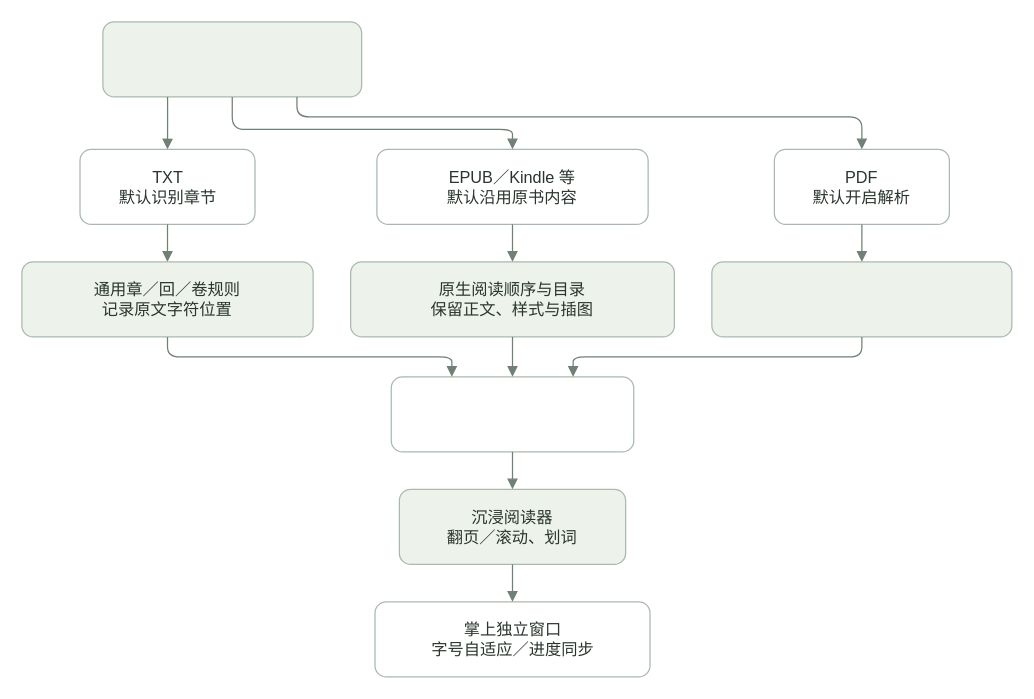
The diagram is 1034 pixels wide and 699 high, and some of its shapes have lost their labels. Each missing label, with the centre of its shape:
书库／导入管理 逐本选择文档解析: (x=232, y=59)
原书目录与文字层 书签优先，OCR 补充: (x=861, y=299)
统一章节索引 搜索、定位与返回: (x=512, y=414)
